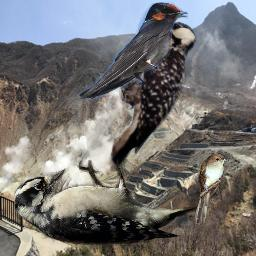Cuckoo: (194, 153, 229, 225)
Swallow: (78, 2, 188, 99)
Woodpecker: (14, 159, 208, 245), (106, 16, 207, 177)
